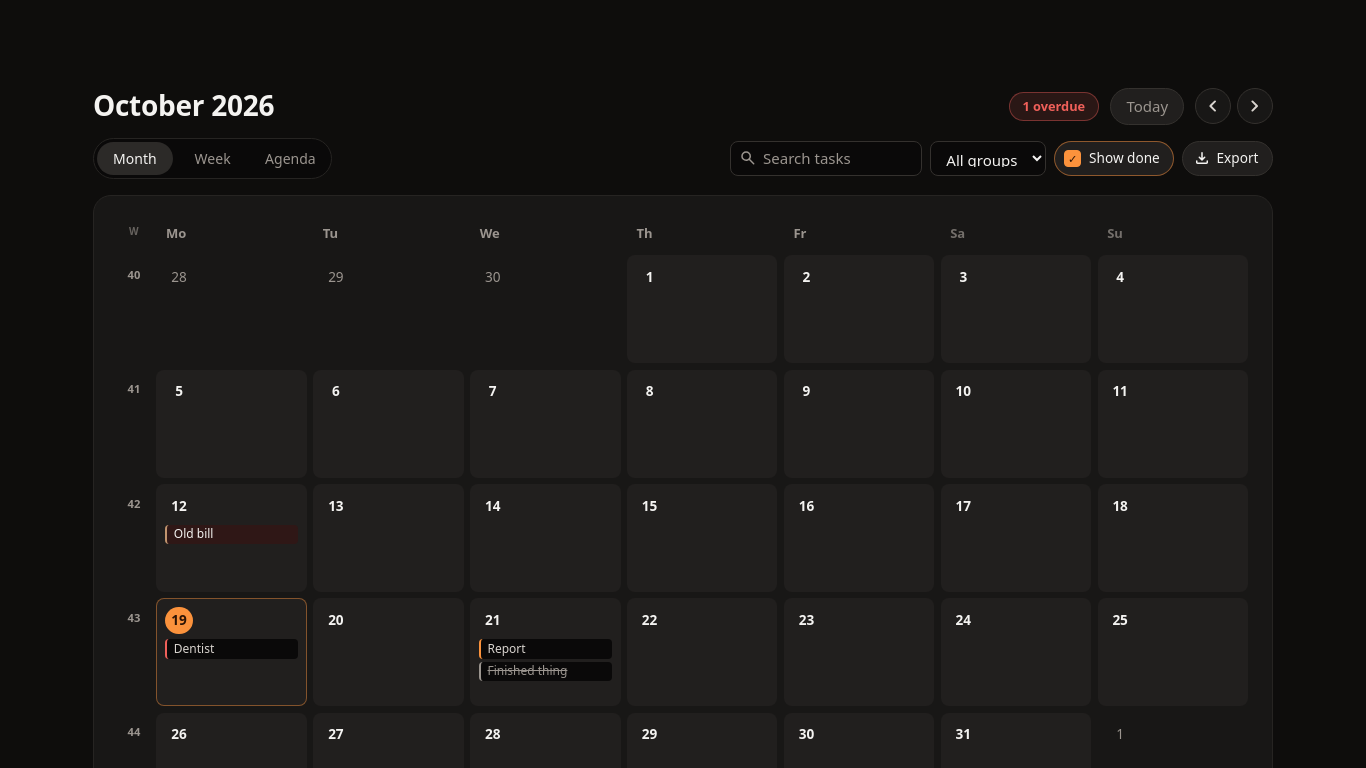
month view › goes to the next month and back to today
Click the button named "Next month". click: [1255, 106]
box: left=1237, top=88, right=1273, bottom=124
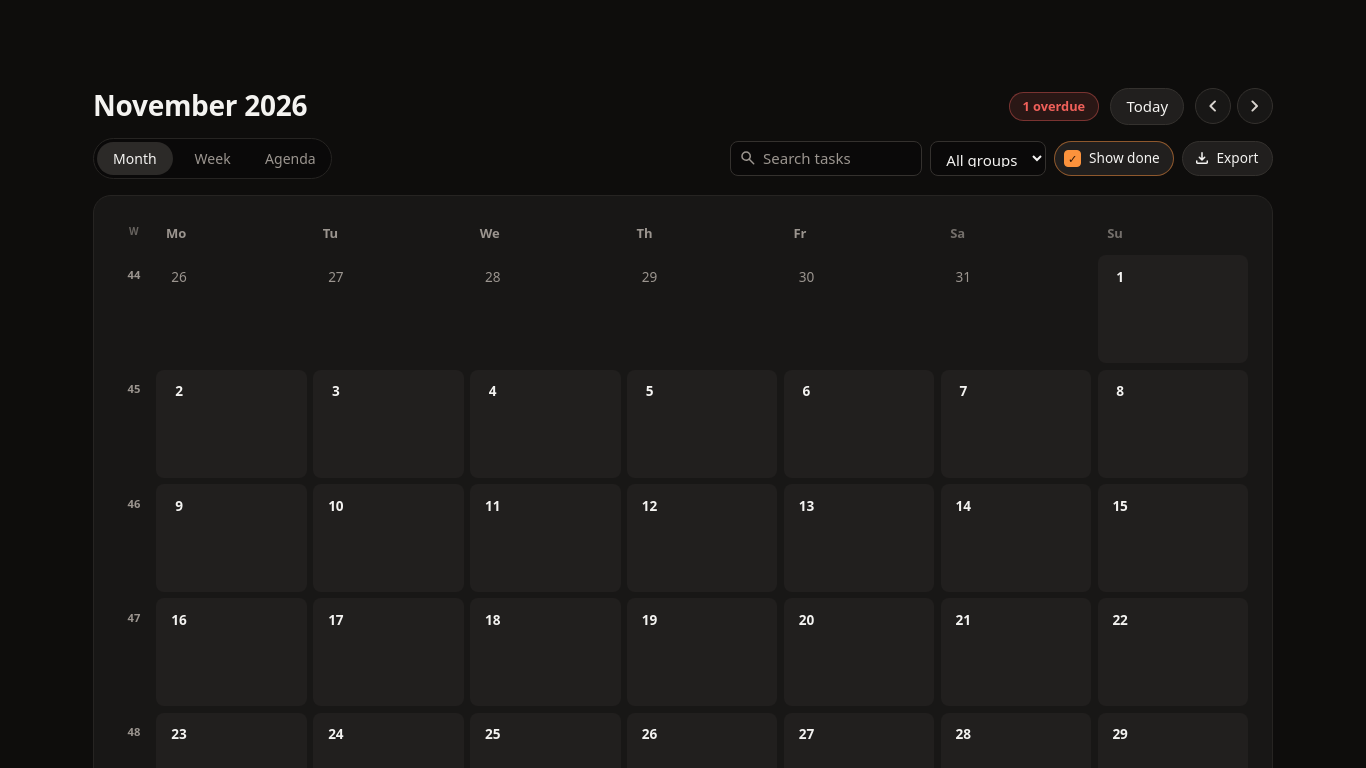
Now the heading reads "November 2026", box left=93, top=86, right=307, bottom=124
Click the button "Today". click: [1147, 106]
box: left=1110, top=88, right=1184, bottom=124
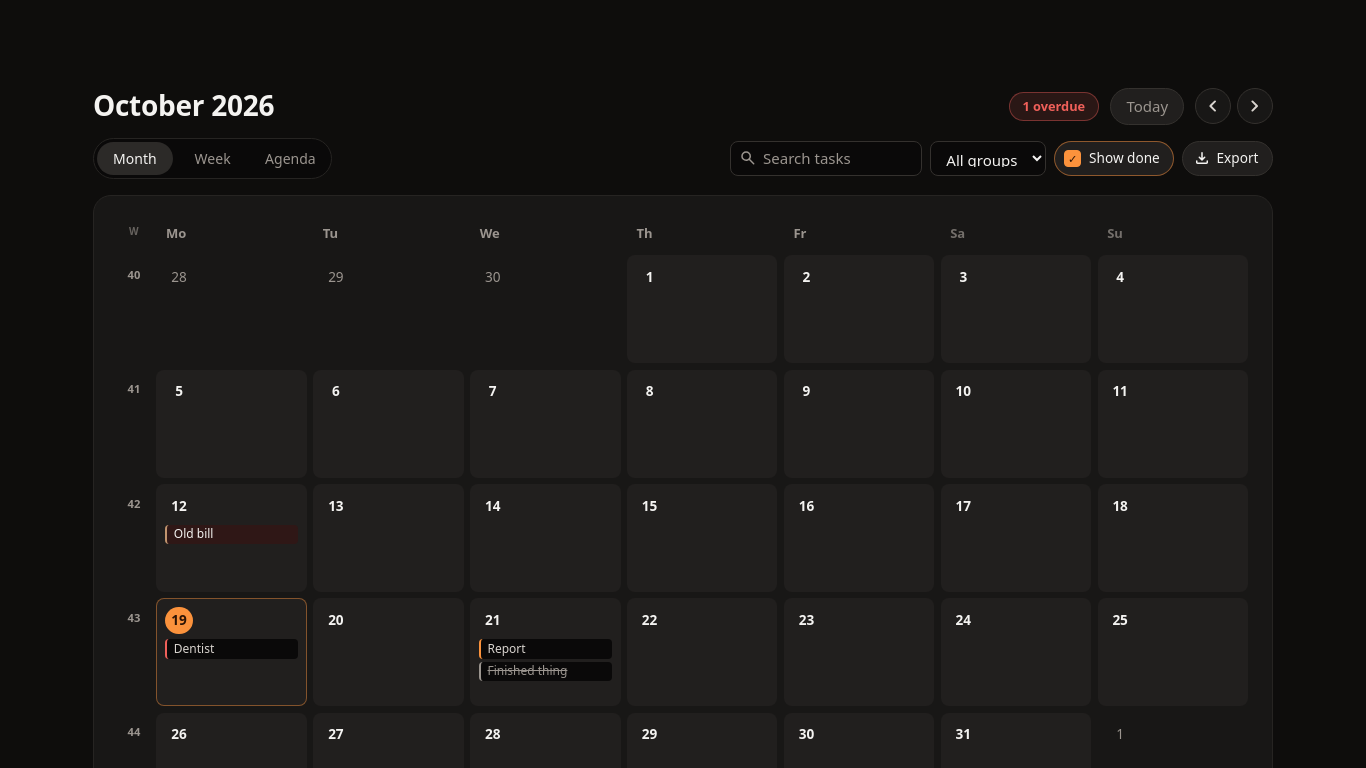
Now the heading reads "October 2026", box left=93, top=86, right=274, bottom=124
